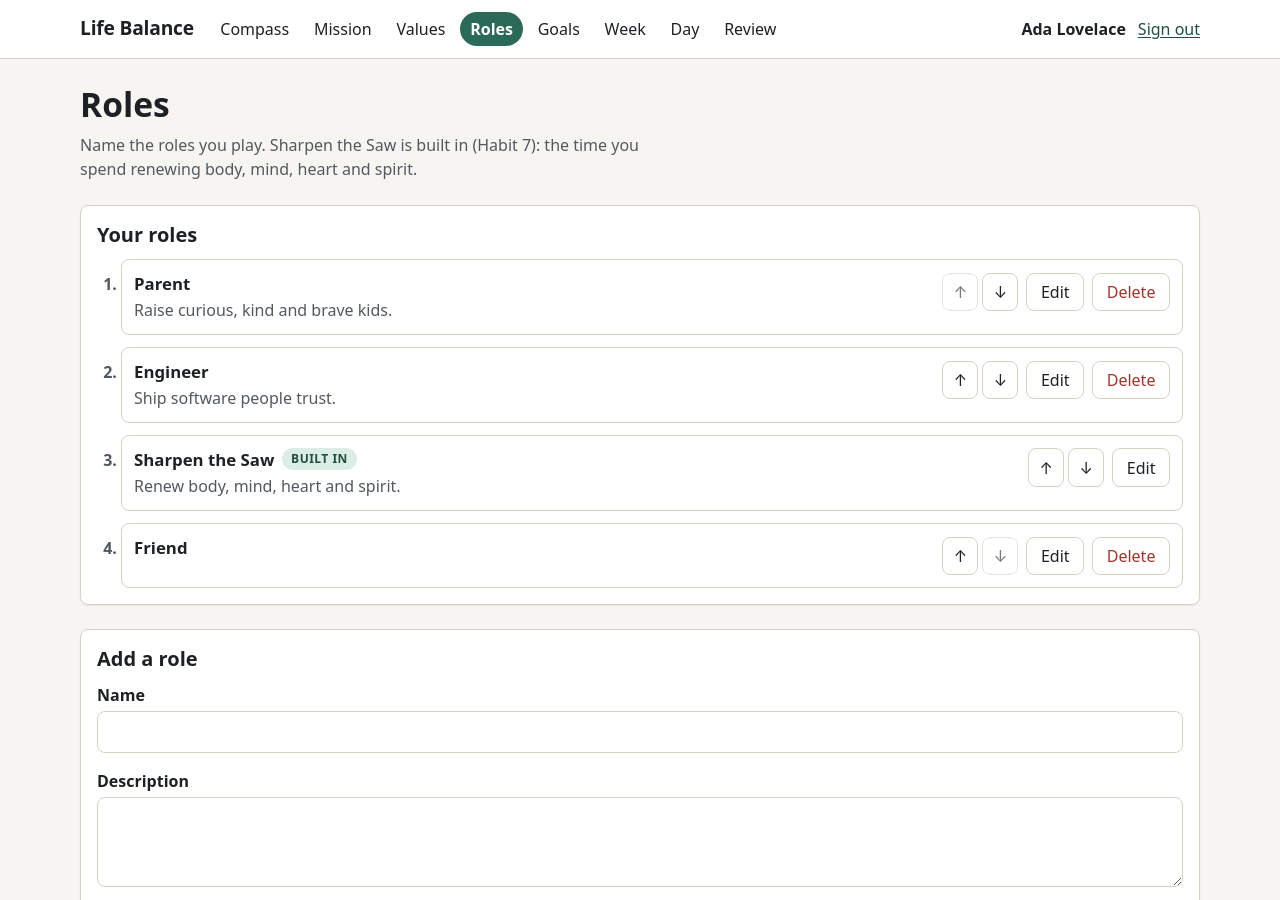
Test case: shows the conflict when a renamed role takes the name of another
The width and height of the screenshot is (1280, 900).
Click the button named "Edit Friend": (1055, 556) [1026,537,1084,575]
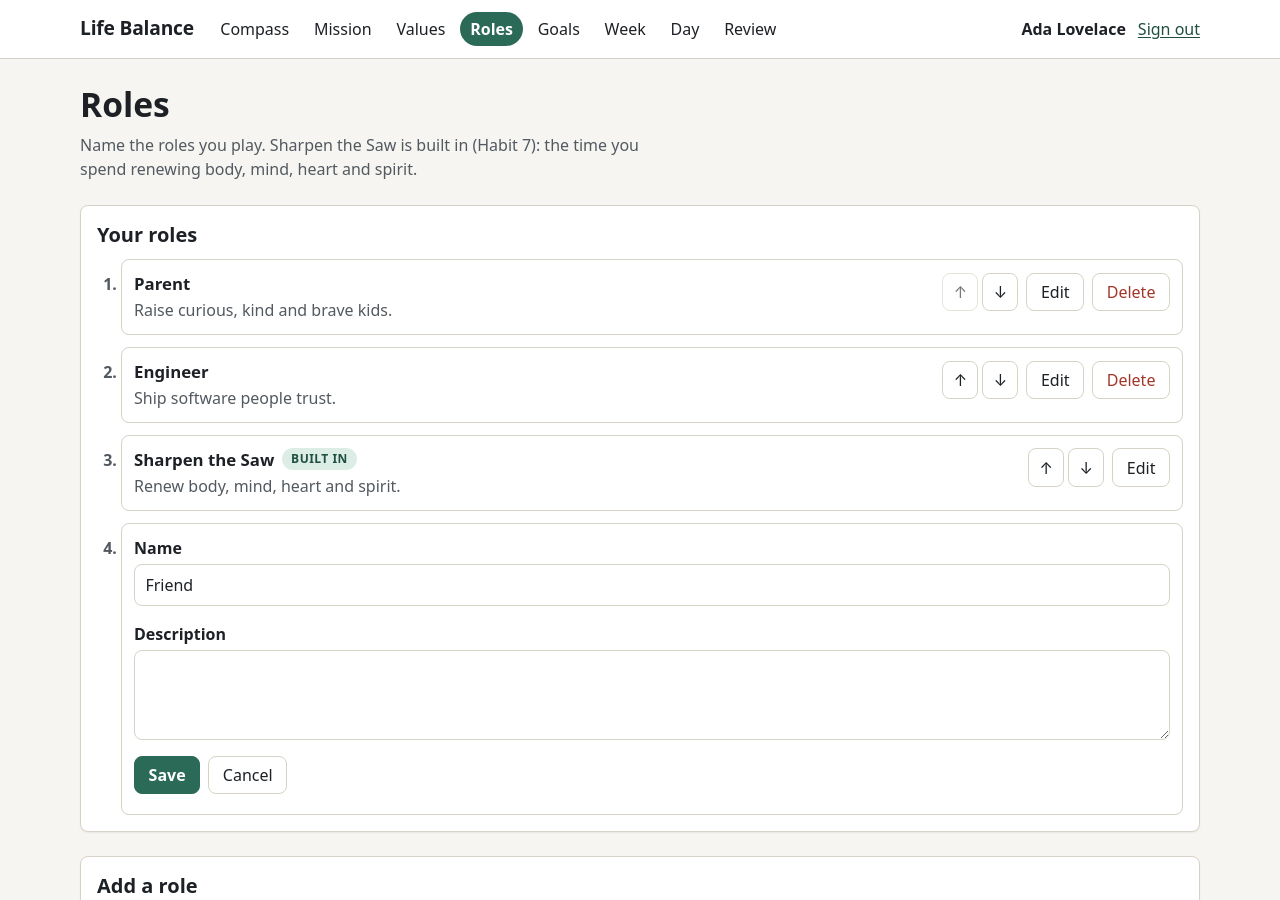
Replace the text in the field labelled "Name" with "parent": (652, 585) [134,564,1170,606]
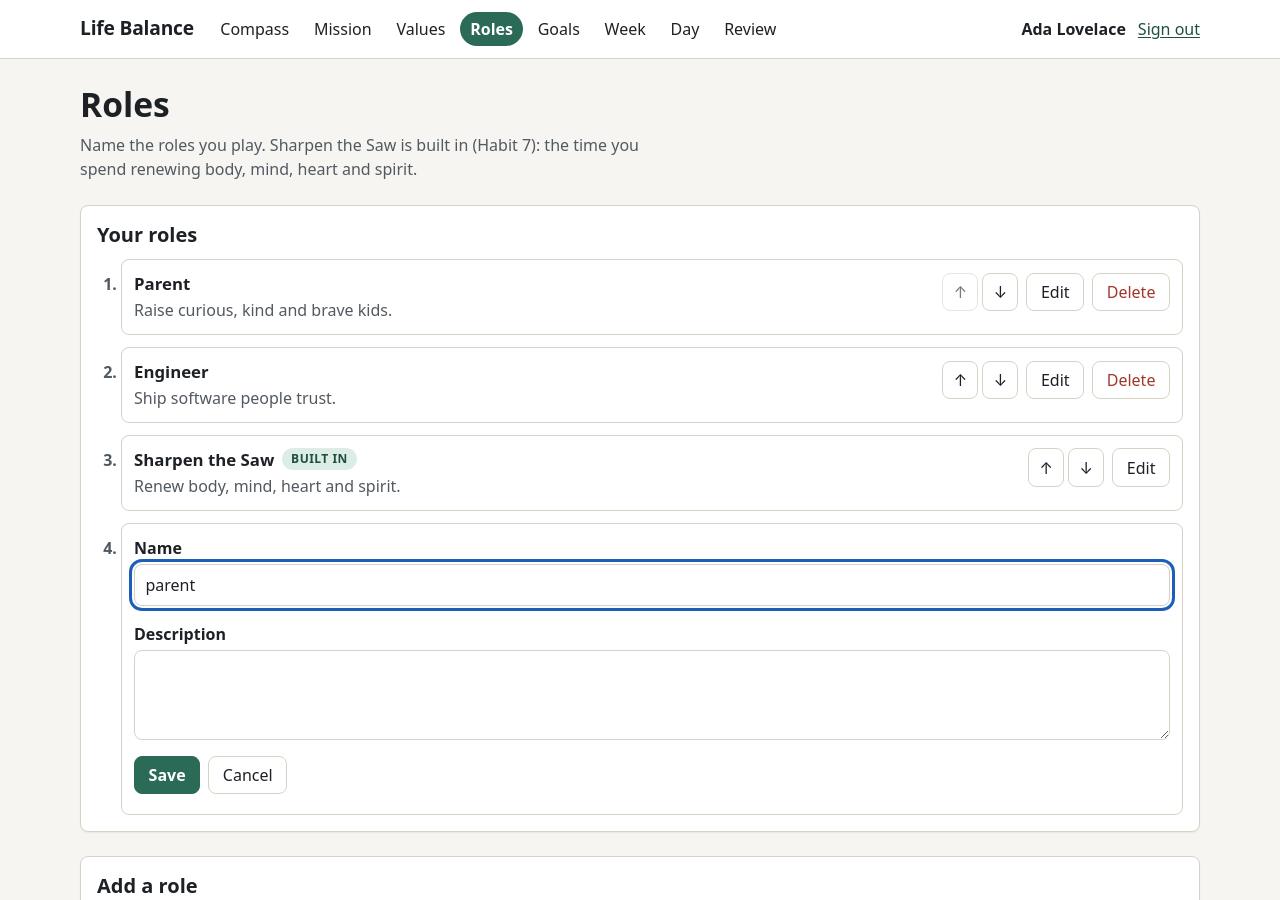
Click the button "Save": (167, 775) [134,756,200,794]
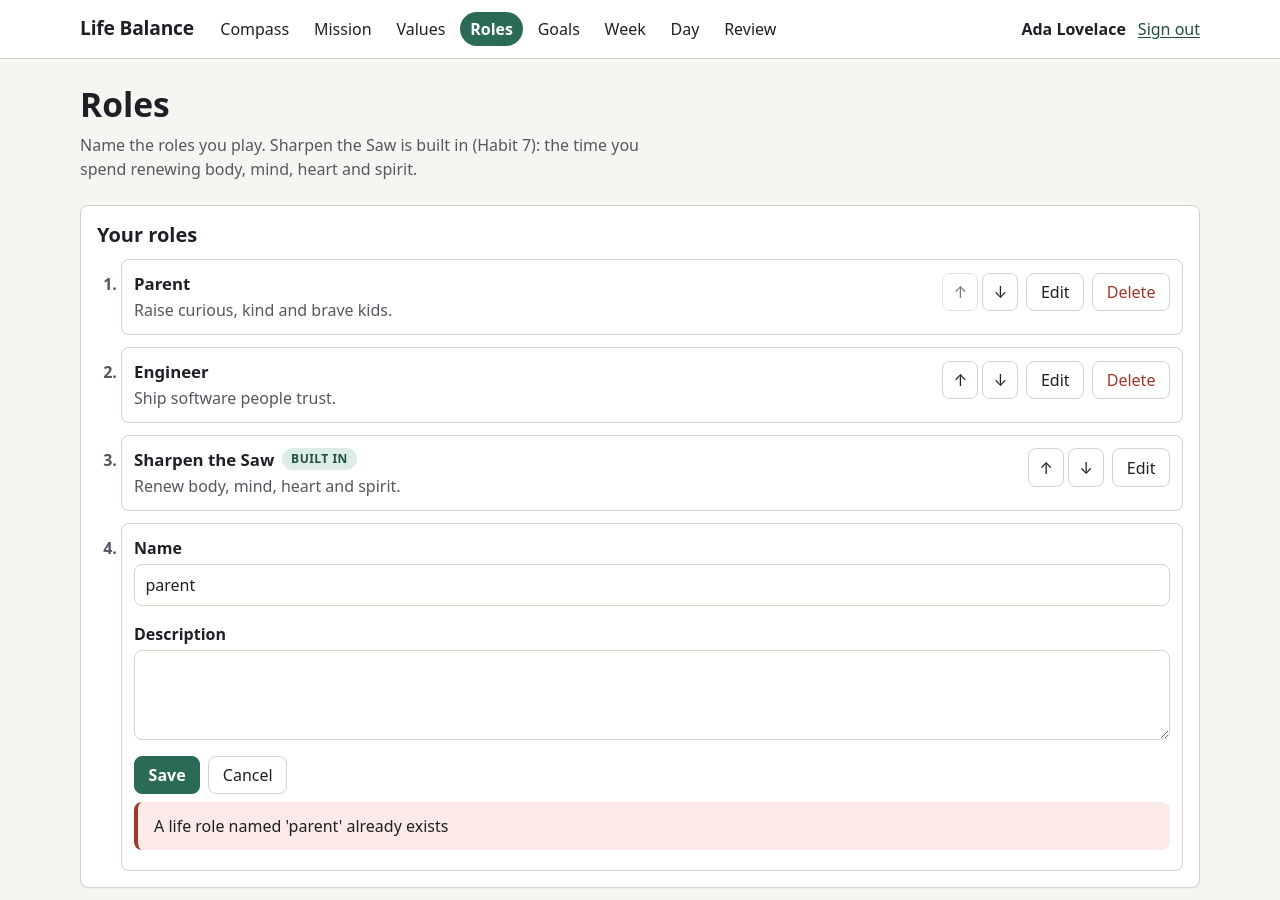
Check: the message reads "A life role named 'parent' already exists", box [154,815,448,837]
